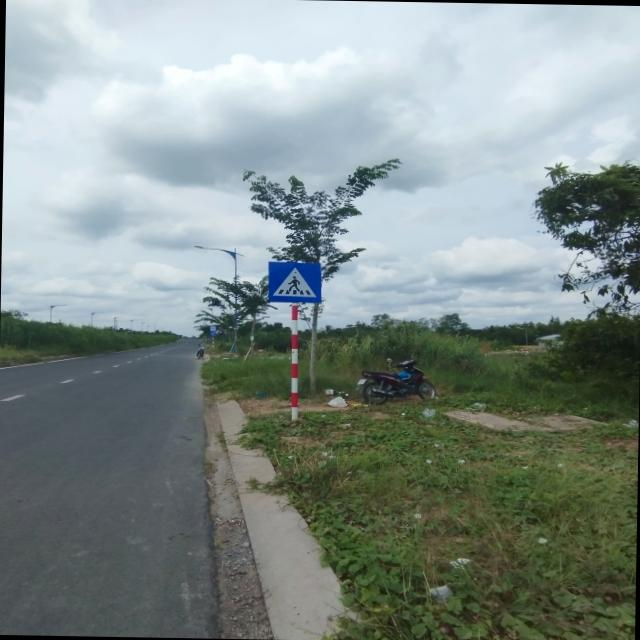Giao_Nhau_Duong_Uu_Tien: (268, 261, 322, 303)
